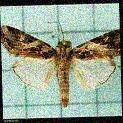Spodoptera litura: (1, 19, 120, 108)
